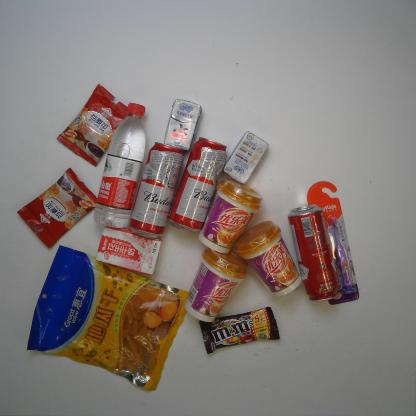Alcohol: (167, 137, 227, 233), (130, 142, 184, 238), (288, 204, 338, 302)
Chocolate: (199, 306, 280, 355)
Dried Fruit: (26, 245, 194, 392)
Drink: (93, 102, 146, 228)
Instant Drink: (16, 168, 100, 248), (56, 83, 132, 168), (235, 220, 301, 297), (183, 246, 247, 323), (198, 179, 262, 253)
Milk: (96, 226, 162, 275), (222, 130, 268, 184), (164, 100, 202, 152)
Personal Hygiene: (306, 182, 359, 304)
